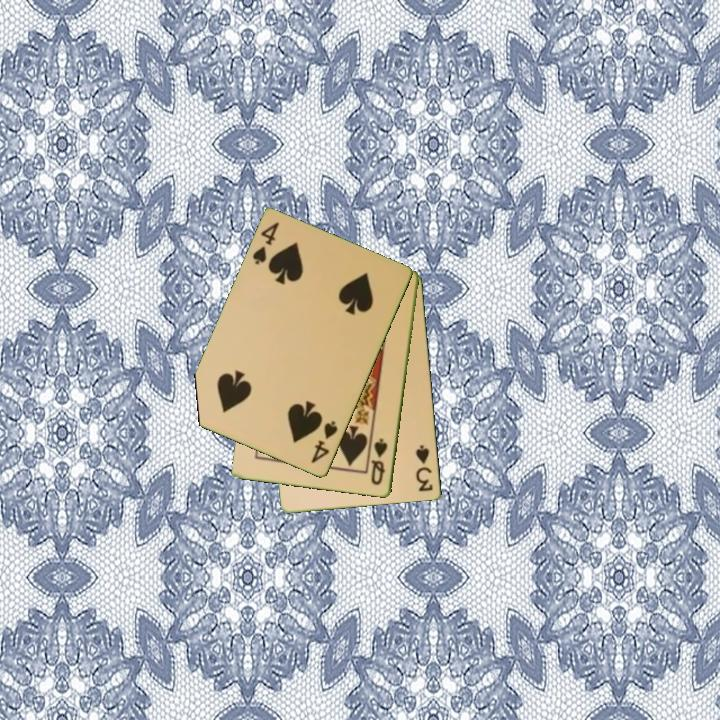3s: (412, 442, 436, 495)
4s: (308, 418, 341, 467), (249, 219, 282, 268)
Qs: (368, 435, 391, 488)
